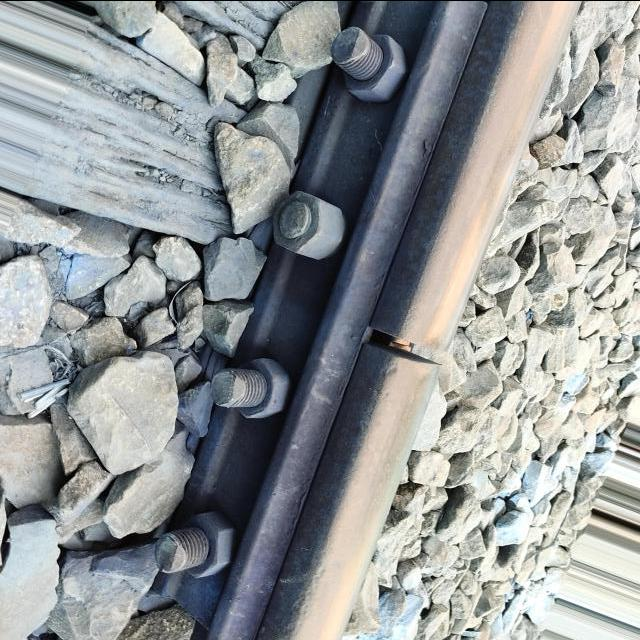broken_rail_medium: (290, 560, 328, 640), (383, 360, 401, 378), (382, 387, 390, 397)
